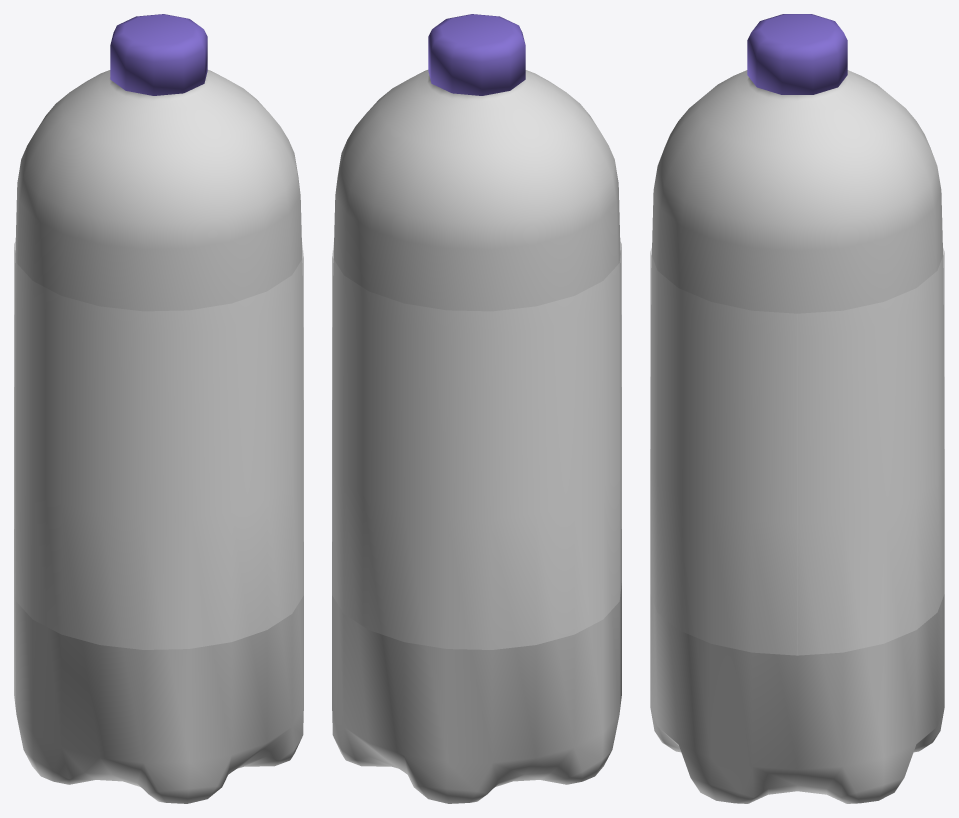
The model's file is water_bottle.glb.
3 views of the same model, side by side, from view 1: azimuth 30°, elevation 25°; view 2: azimuth 150°, elevation 25°; view 3: azimuth 270°, elevation 25° (orthographic).
Parts seen in each view (by area): view 1: Bottle, BottleLabel, BottleLid; view 2: Bottle, BottleLabel, BottleLid; view 3: Bottle, BottleLabel, BottleLid.
Part boxes in pixels (left/top/right/bottom): Bottle: left=14, top=70, right=303, bottom=803; BottleLabel: left=14, top=242, right=303, bottom=649; BottleLid: left=110, top=14, right=207, bottom=95; Bottle: left=332, top=70, right=621, bottom=803; BottleLabel: left=332, top=242, right=621, bottom=649; BottleLid: left=428, top=14, right=525, bottom=95; Bottle: left=650, top=70, right=944, bottom=803; BottleLabel: left=650, top=248, right=944, bottom=655; BottleLid: left=747, top=14, right=847, bottom=94.
Size of the model in its own units: 0.0936 by 0.257 by 0.0936.
